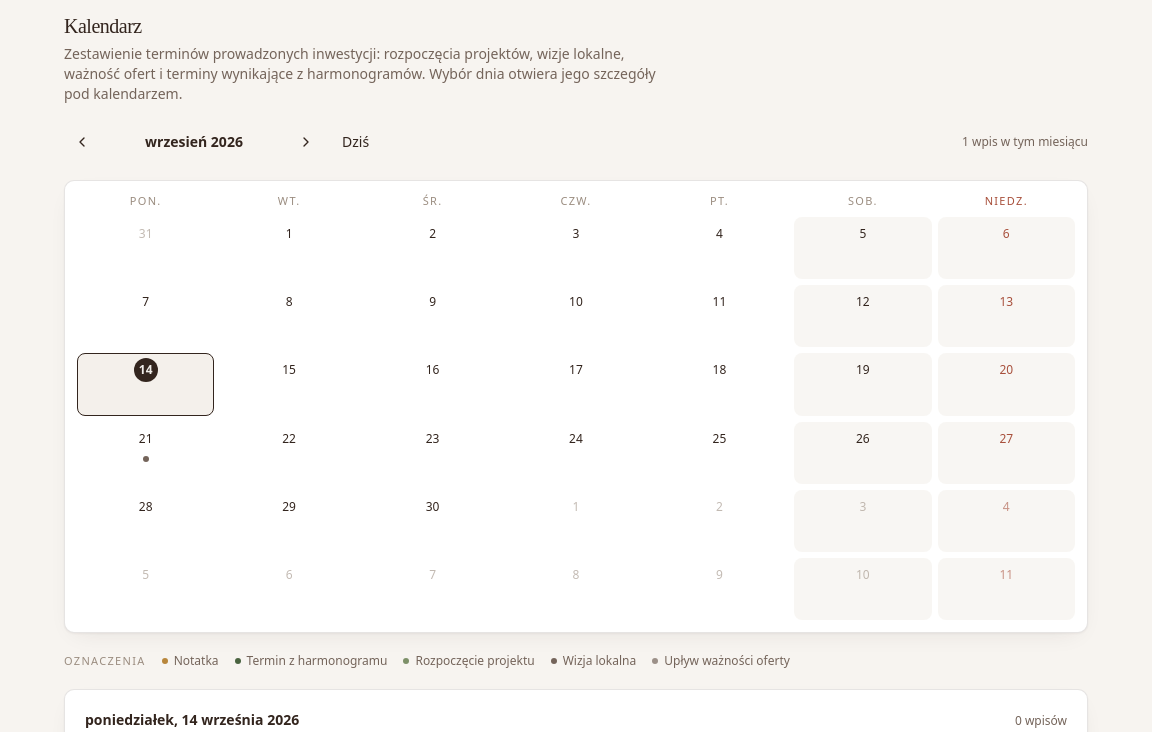
CalendarPage › kliknięcie dnia pokazuje jego wpisy w panelu pod kalendarzem
The width and height of the screenshot is (1152, 732).
What coordinates should you click on to do the following:
click the button named "21 września 2026"
I would click on:
 (146, 453)
Its box is [77,422,214,484].
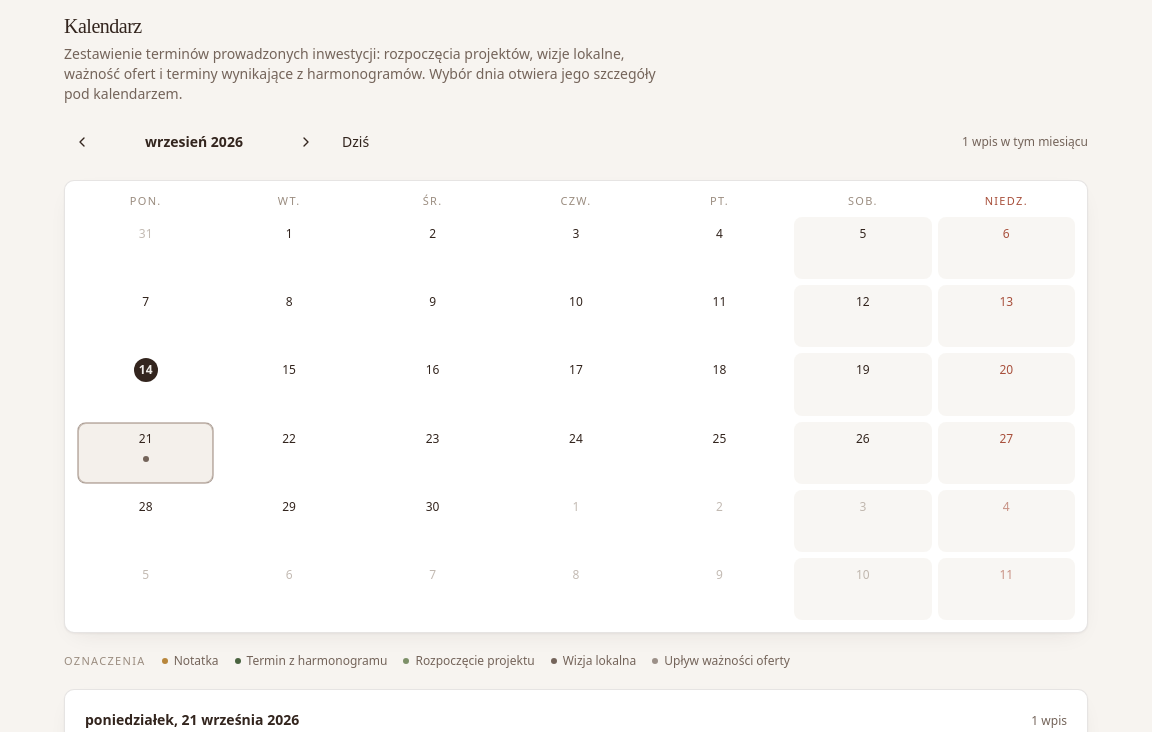
Expected: the heading "poniedziałek, 21 września 2026" is shown, [85,710,299,730]
